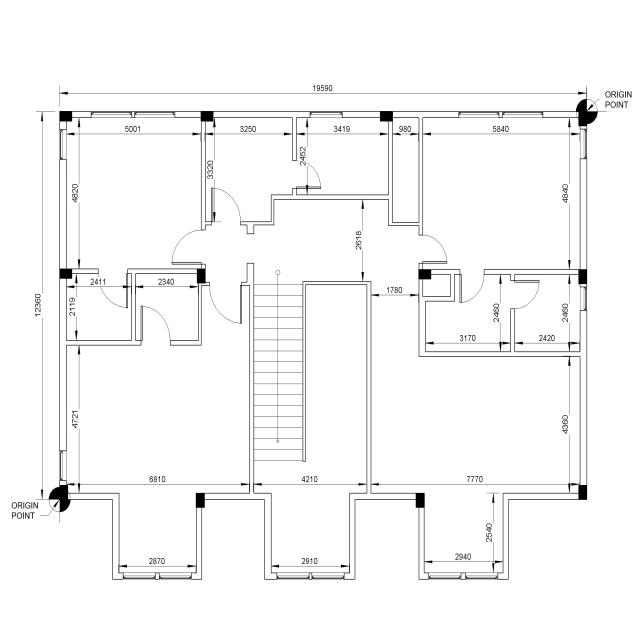Column: (200, 111, 213, 122), (418, 270, 432, 280), (59, 485, 68, 500), (196, 493, 205, 508), (60, 111, 72, 122), (380, 111, 393, 121), (59, 268, 72, 278), (197, 268, 205, 284), (416, 493, 424, 508), (579, 485, 587, 500), (579, 269, 587, 284), (579, 111, 587, 126)
Door: (209, 282, 242, 324), (140, 306, 170, 346), (98, 269, 128, 308), (172, 230, 206, 264), (211, 188, 241, 225), (510, 280, 540, 309), (292, 160, 321, 189), (419, 234, 447, 264), (460, 269, 484, 303)
Staircase: (254, 281, 303, 493)
Window: (502, 111, 543, 118), (91, 111, 132, 118), (134, 111, 175, 118), (459, 111, 499, 118), (276, 572, 310, 580), (428, 572, 462, 580), (123, 572, 156, 580), (159, 572, 192, 580), (465, 572, 498, 580), (312, 572, 344, 580), (59, 450, 67, 481), (59, 129, 67, 160), (310, 111, 342, 118), (580, 129, 587, 159), (580, 286, 587, 310)
